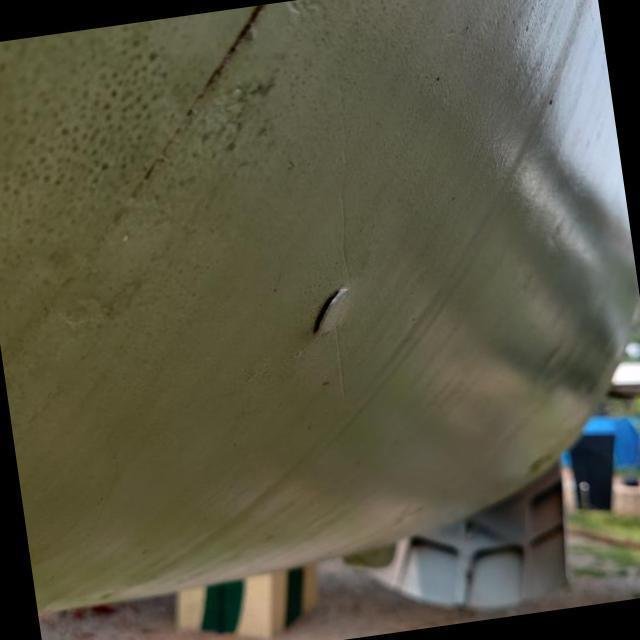Rupture: (296, 271, 370, 350)
